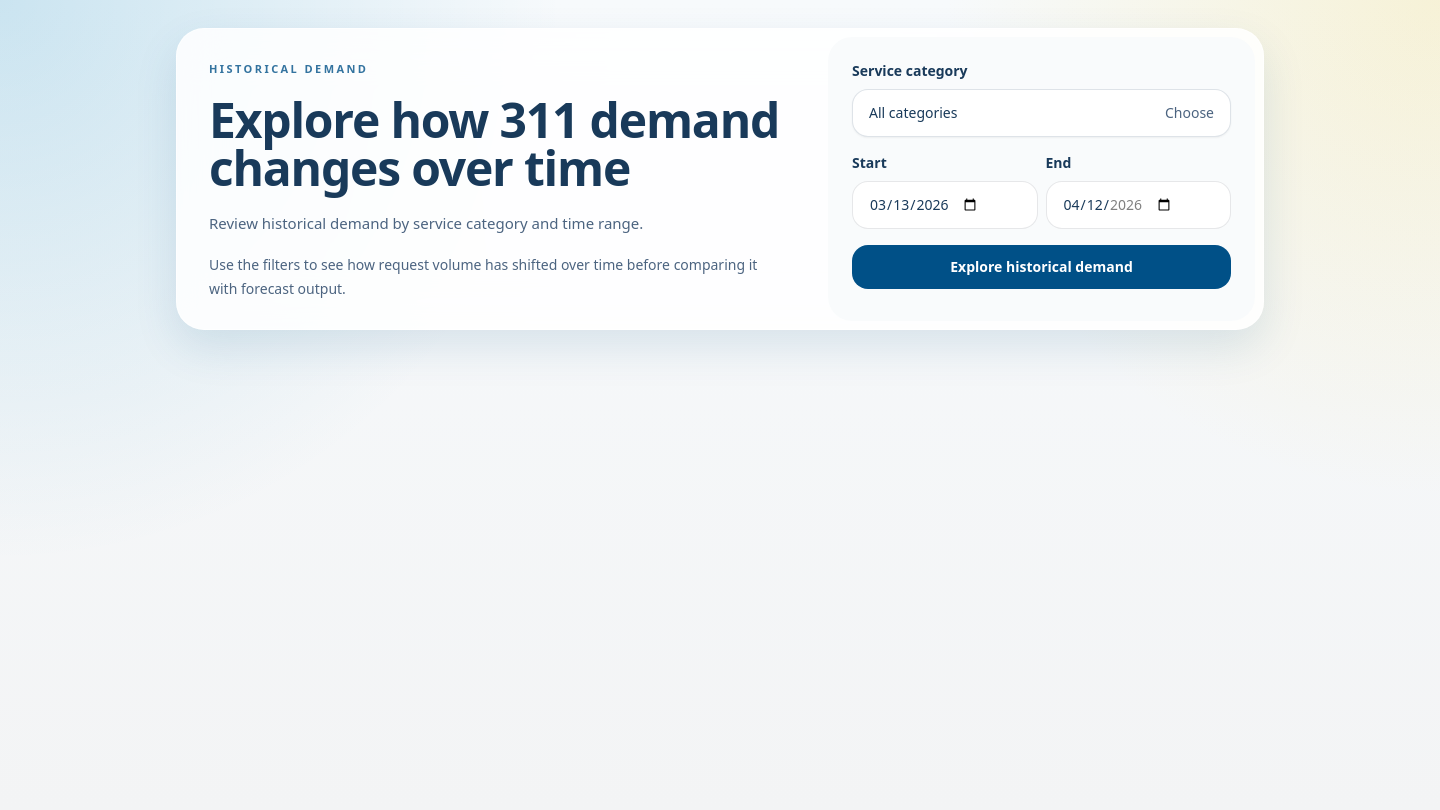
it: HistoricalDemandPage › loads context, submits a valid request, and renders results
Click the button "Explore historical demand" at {"x": 1042, "y": 267}, box x1=852 y1=245 x2=1231 y2=289
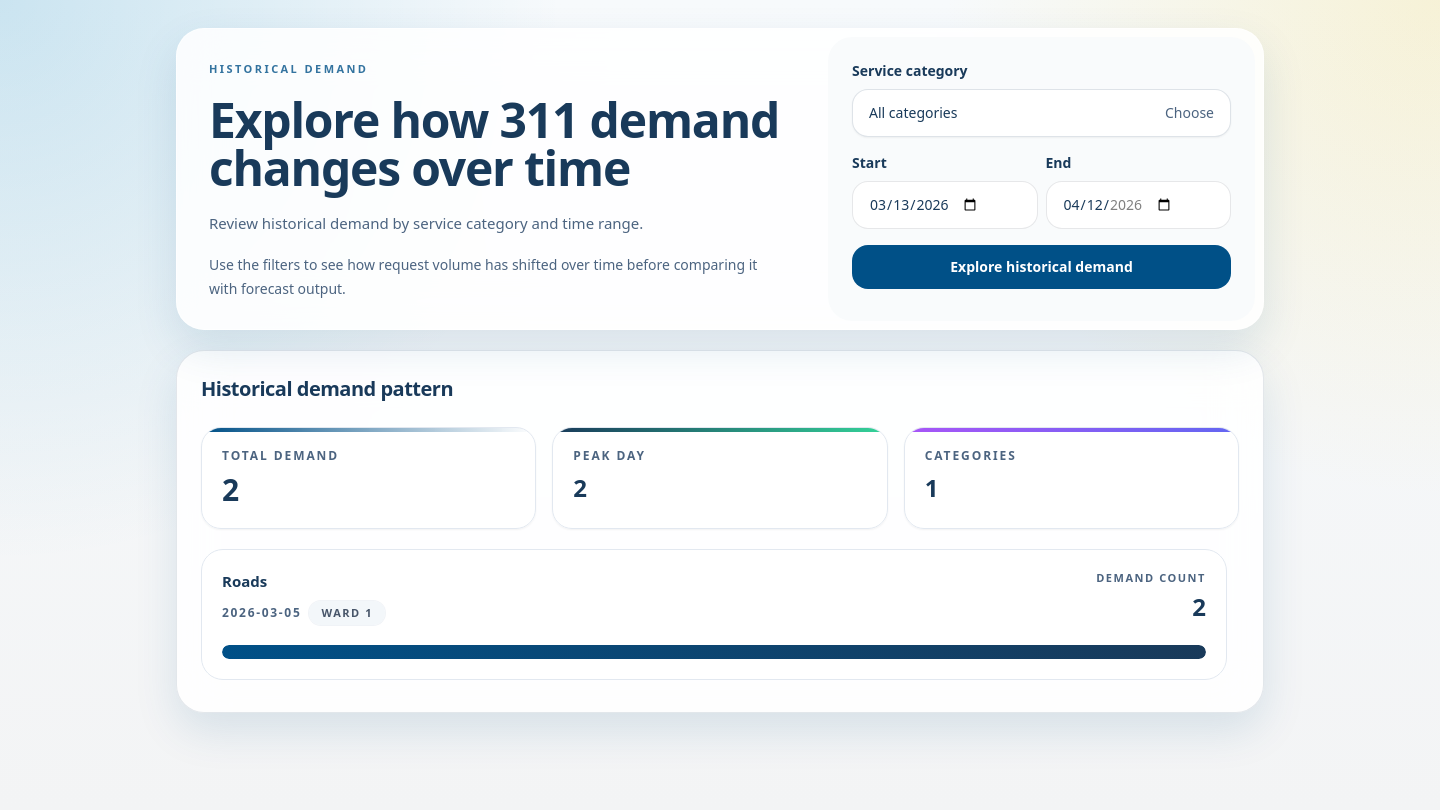
Result: the heading "Historical demand pattern" is shown at x1=201 y1=375 x2=453 y2=402
